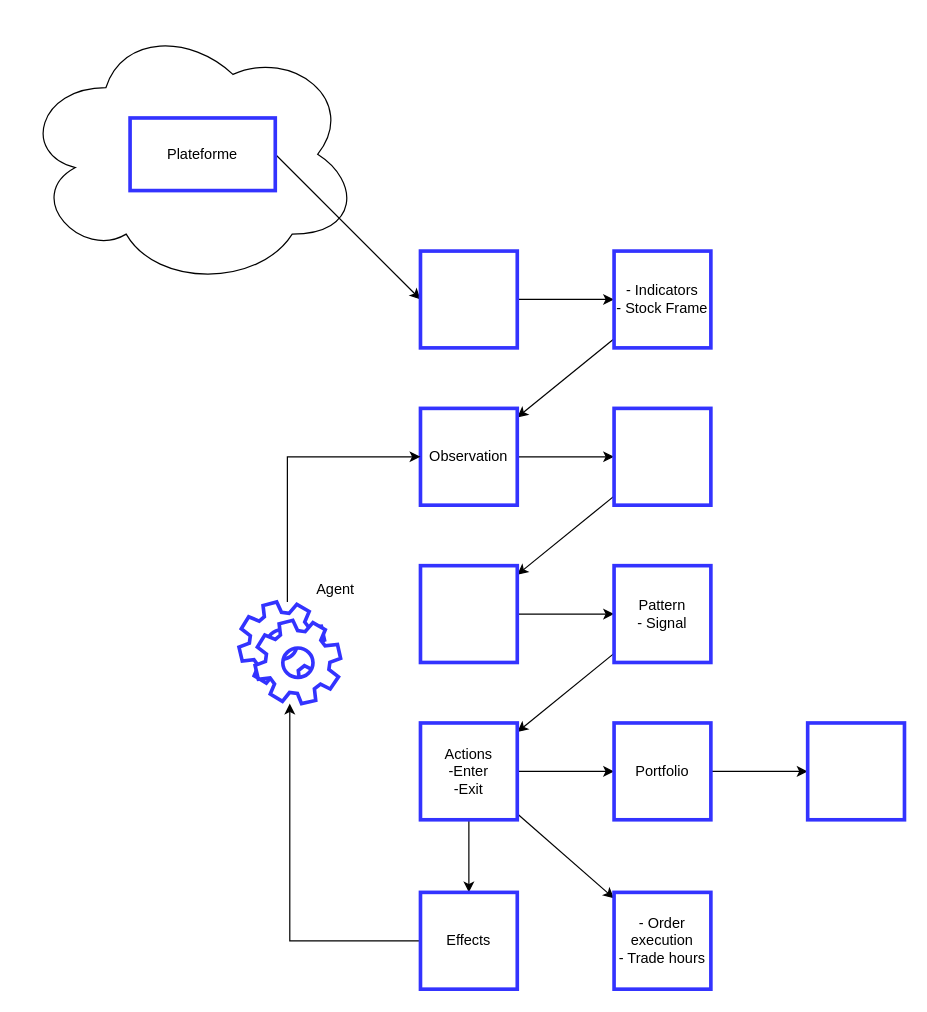
Image size: 927x1012. Some labels were removed from this diagram. Here are the shapes that lost their labels. From the top down, the centre of each, then its label:
point 468,299: Stream - Real time - Data
point 662,456: Problem
point 468,613: Numberrize
point 855,771: Metrics
